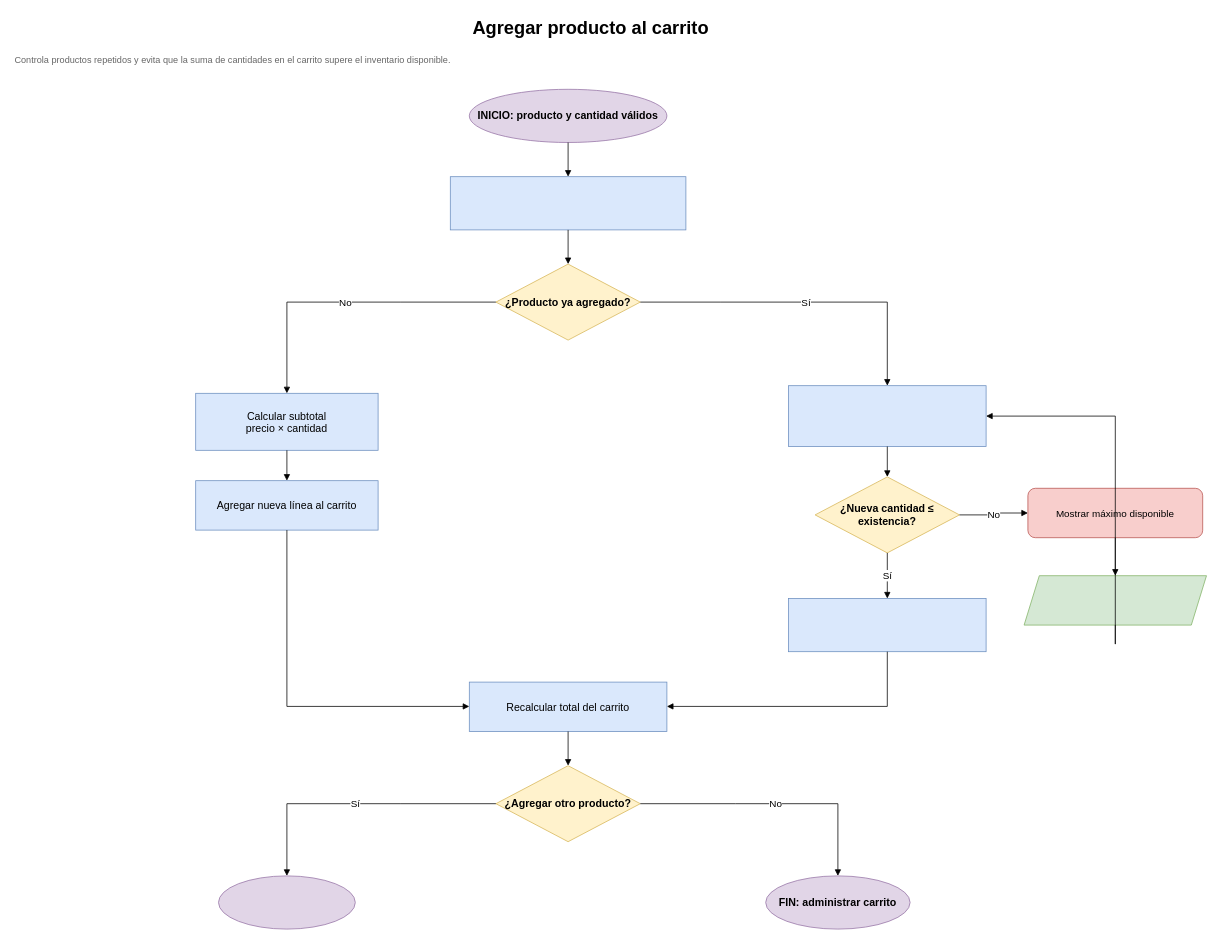
Some shapes in this 1220 by 942 pixel diagram are drawn without their labels. The shapes that lost their labels are listed below. From the top down, each one's box as (x1, y1, x2, y2) in pixels, then its label:
(450, 176, 686, 230): Consultar si el producto ya está en el carrito
(788, 385, 986, 446): Calcular nueva cantidad actual + solicitada
(1023, 575, 1206, 625): Ingresar cantidad ajustada
(788, 598, 986, 652): Actualizar cantidad y subtotal
(218, 875, 355, 929): FIN: volver a búsqueda
